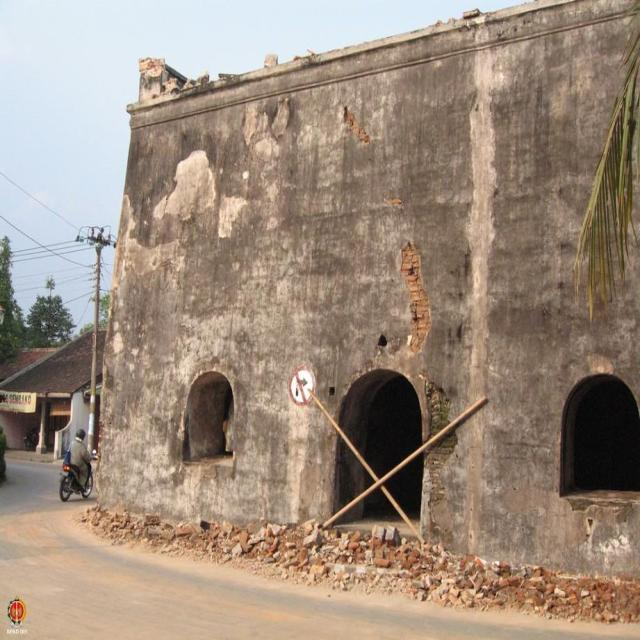damage: (274, 508, 460, 594), (460, 532, 640, 614), (100, 494, 288, 570), (386, 227, 451, 372)
